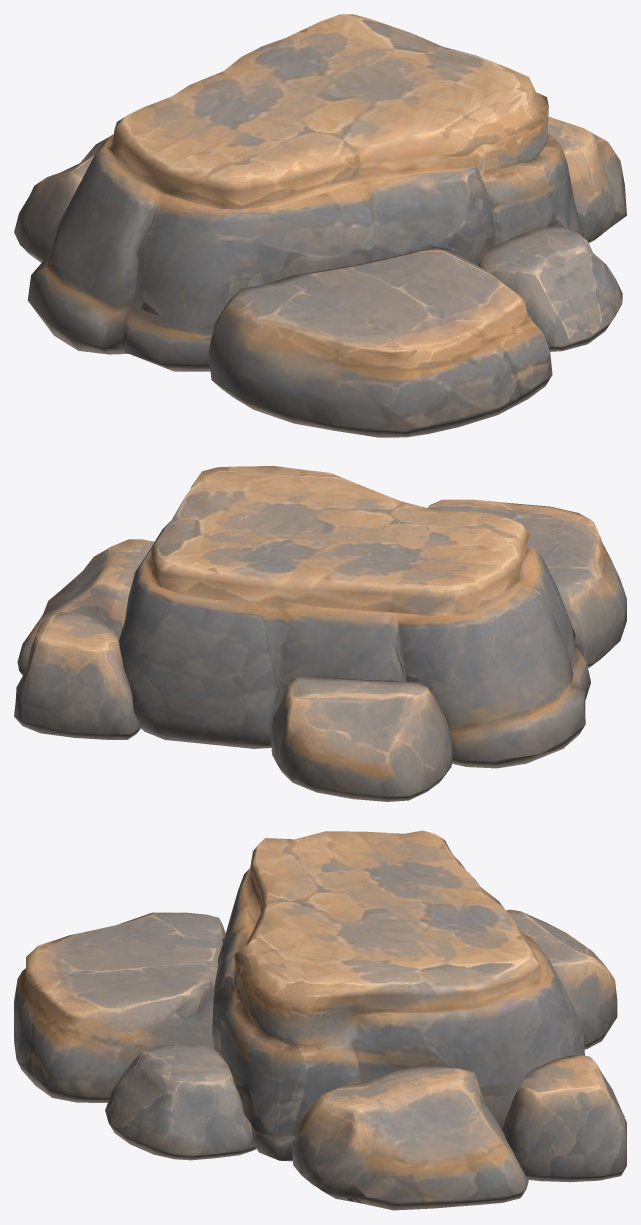
File: Pedras_Pequenas.glb
3 renders of one model, top to bottom at view 1: azimuth 30°, elevation 25°; view 2: azimuth 150°, elevation 25°; view 3: azimuth 270°, elevation 25°, orthographic. The views are drawn at different scales.
Bounding box in the file's own units: 1 × 0.3057 × 1.
Materials: 1 (1 with a texture image).
